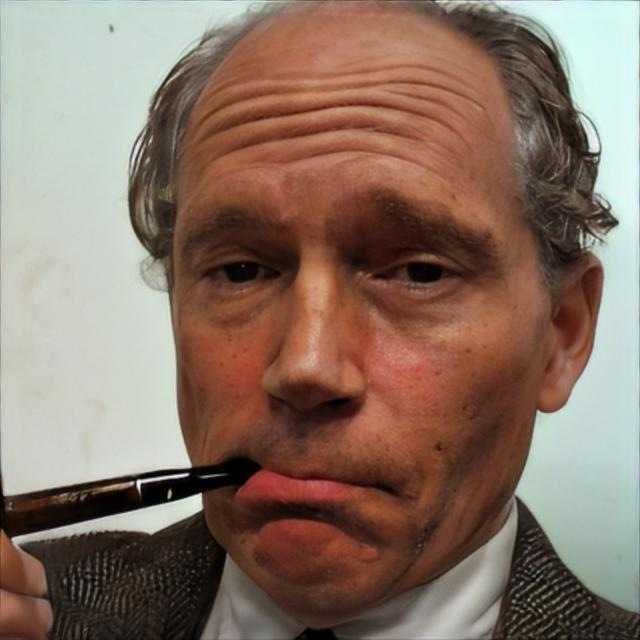sad: (168, 1, 548, 624)
